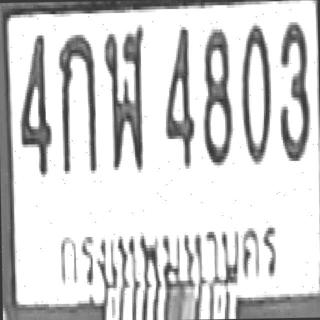A01: (57, 32, 96, 174)
A42: (102, 23, 145, 168)
N00: (238, 22, 270, 161)
N03: (277, 19, 309, 158)
N04: (161, 22, 195, 168), (16, 29, 50, 175)
N08: (199, 24, 231, 164)
P04: (51, 205, 284, 299)
